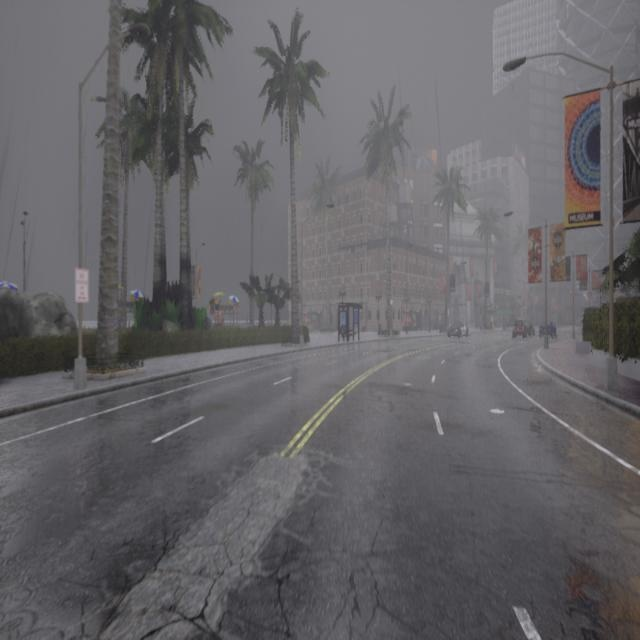bien_chi_dan: (570, 288, 572, 298), (590, 288, 592, 297), (569, 290, 573, 294), (590, 289, 592, 292)
